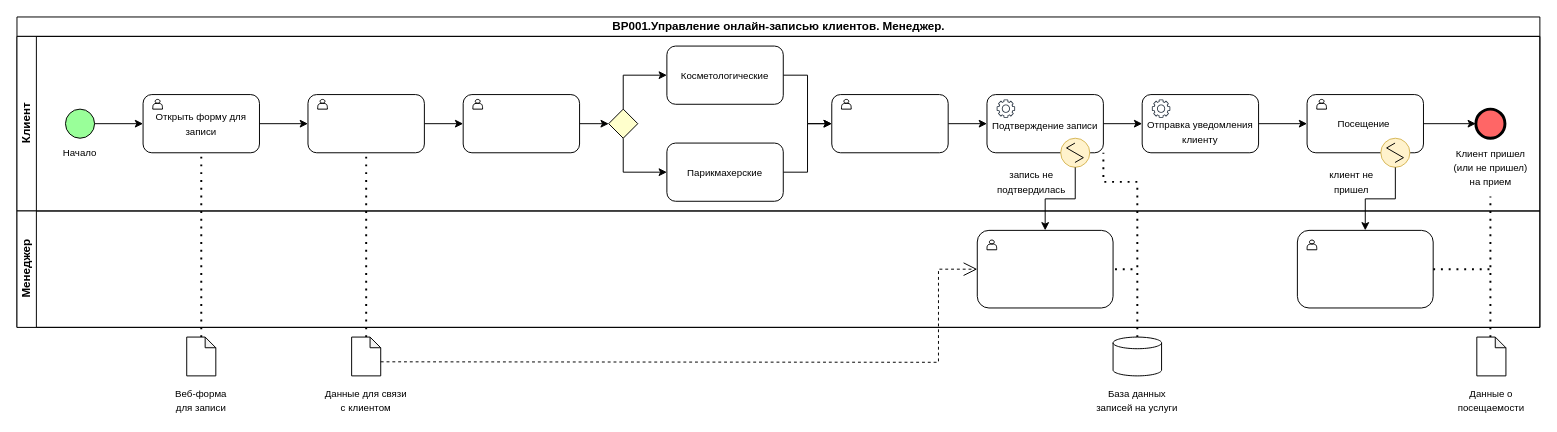
Some shapes in this 1557 by 432 pixel diagram are drawn without their labels. The shapes that lost their labels are listed below. From the top down, each one's centre as x and y in pixels, then its label:
the point at 365,123: Заполнить данные о себе.
the point at 521,123: Выбрать дату и время. Выбрать услугу.
the point at 889,123: Выбор мастера
the point at 1044,268: Подтверждение записи вручную, связь с клиентом при необходимости
the point at 1364,268: Повторное уведомление, но вручную, уточнение или запись аннулируется
